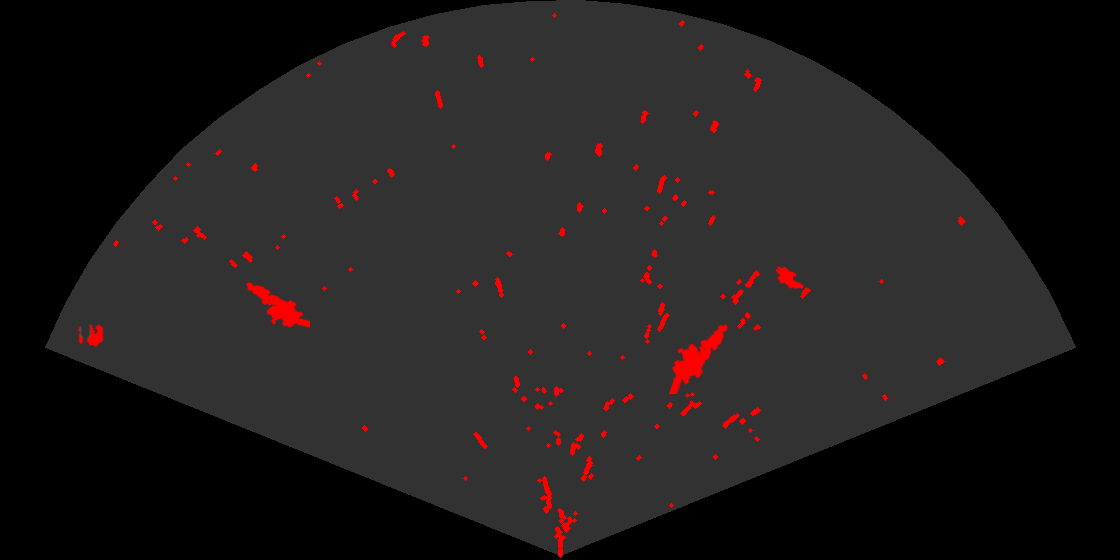AUV: (774, 265, 805, 291)
ball: (77, 322, 105, 348)
frogman: (667, 322, 730, 394), (244, 280, 310, 330)
